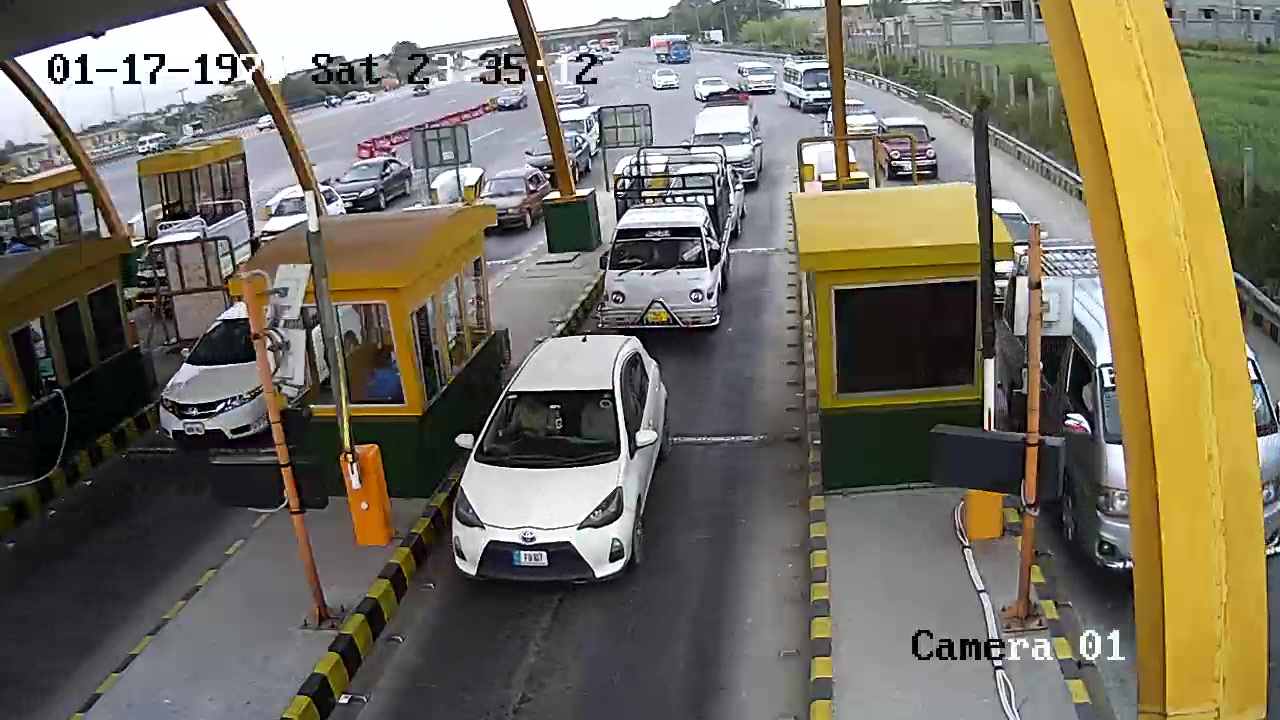F1: (442, 334, 682, 593)
